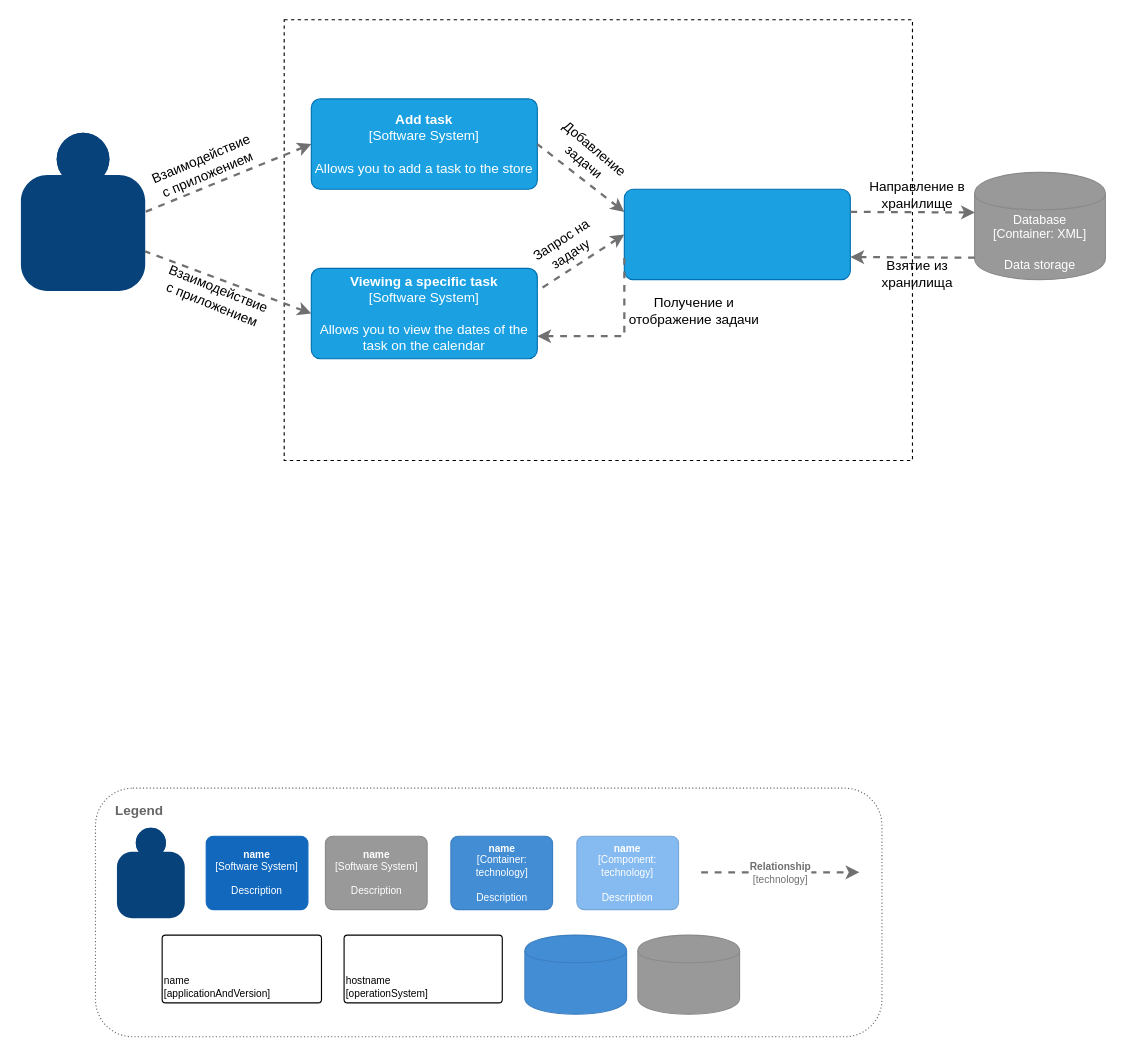
Some shapes in this 1125 by 1057 pixel diagram are drawn without their labels. The centre of each missing label's shape, as x and y in pixels:
"Collection manager [Software System] Distributes the task to the collection" goes at pixel 736 234.
"Database [Container: Technology] Description" goes at pixel 575 974.
"Database [Container: Technology] External" goes at pixel 688 974.
"name [Person] Description" goes at pixel 150 872.
"User [Person] Work with applictaion" goes at pixel 82 211.
